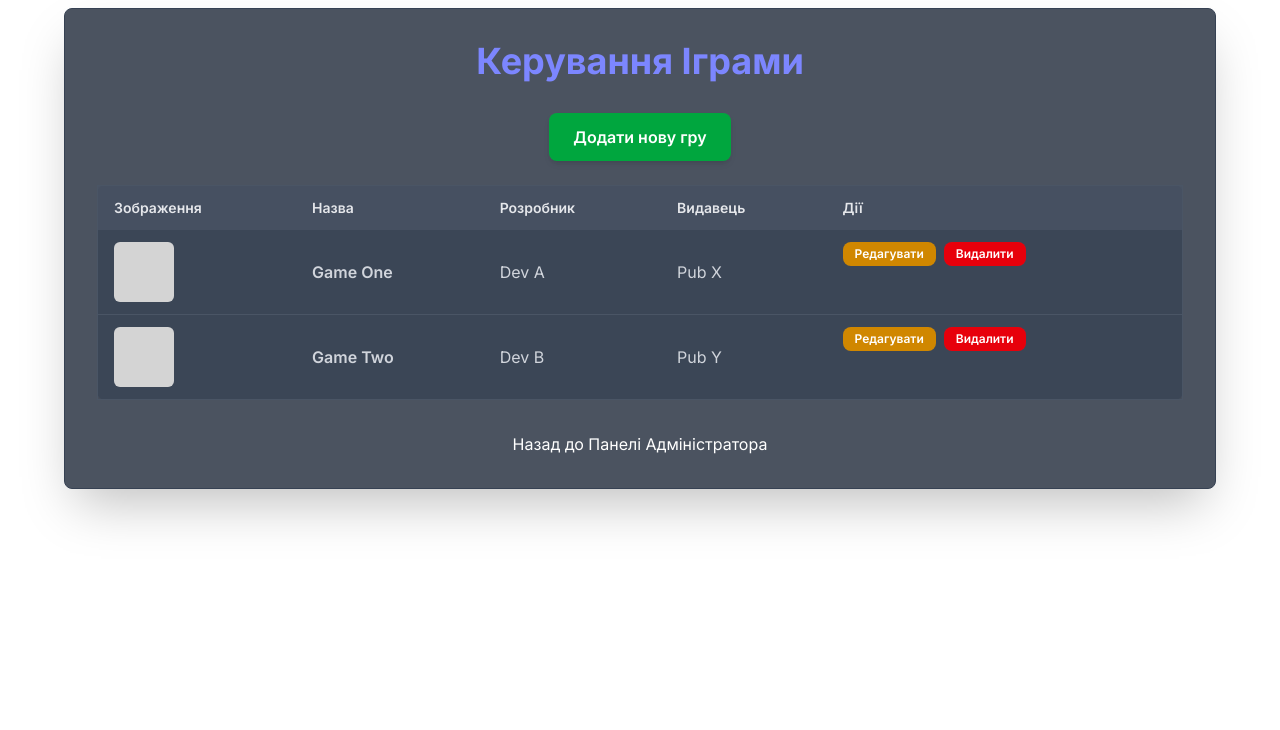
Test: AdminGamesPage › fetches genres and platforms on initial load
Click the button "Додати нову гру" at (640, 137), box [549, 113, 731, 161]
(page scrolled)
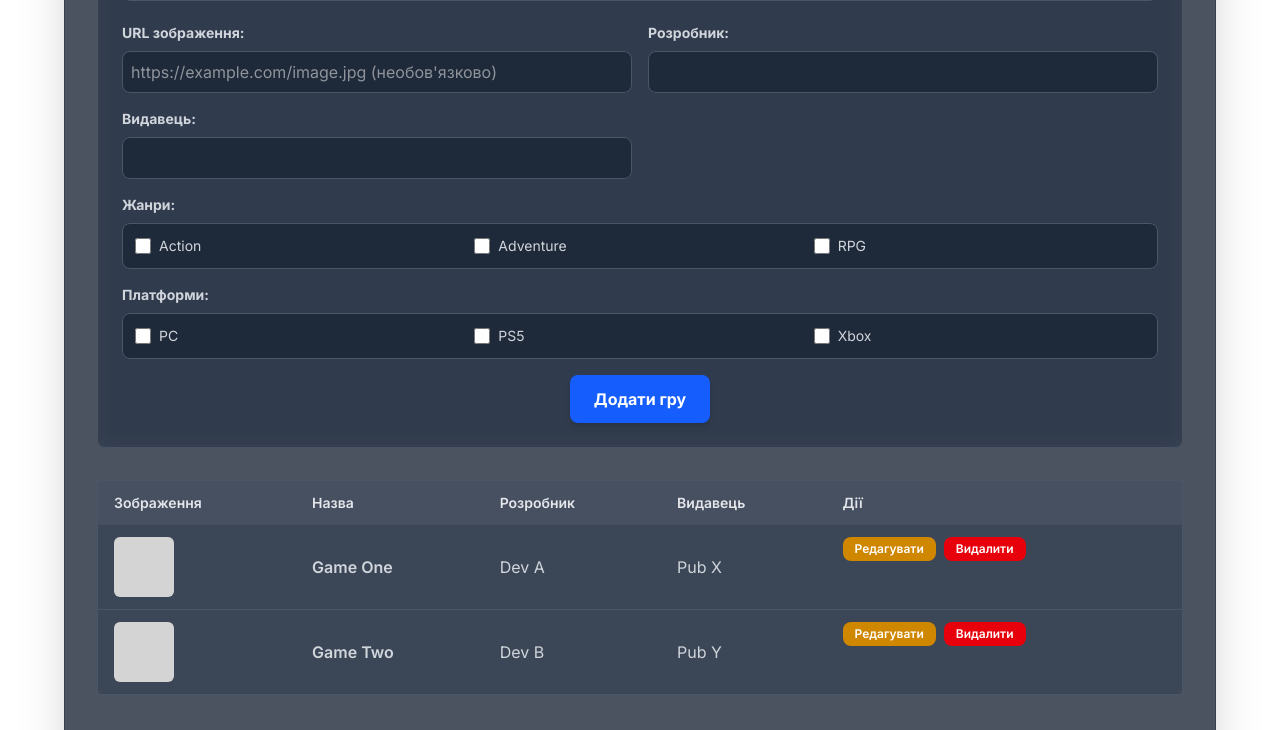
Now the checkbox labelled "Action" is shown, box [135, 238, 151, 254]
Now the checkbox labelled "PC" is shown, box [135, 328, 151, 344]
